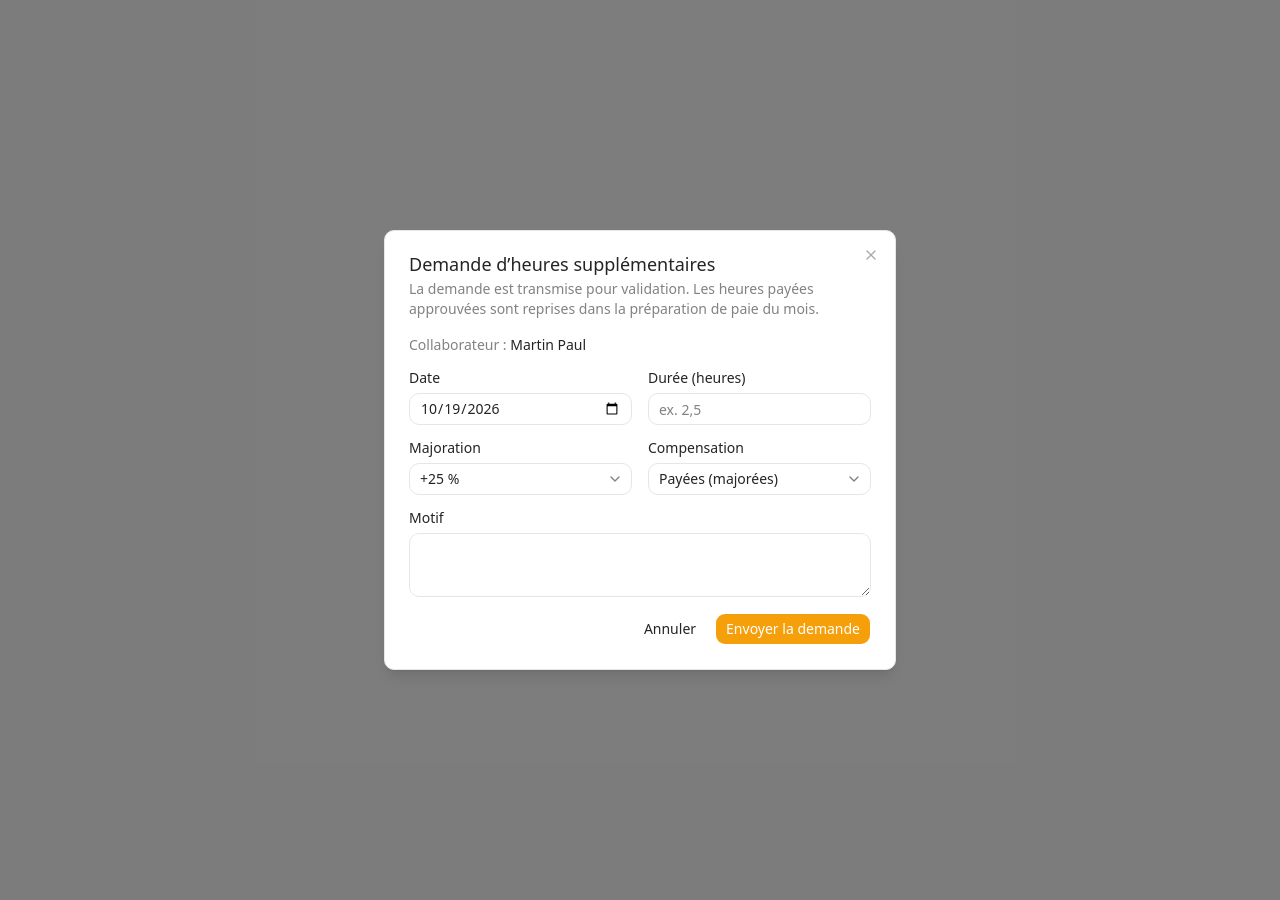
Test: DemandeHeuresSupDialog › affiche l’erreur renvoyée par le serveur
In the field labelled "Durée (heures)": [760, 409] box [648,393,871,425], type "1"
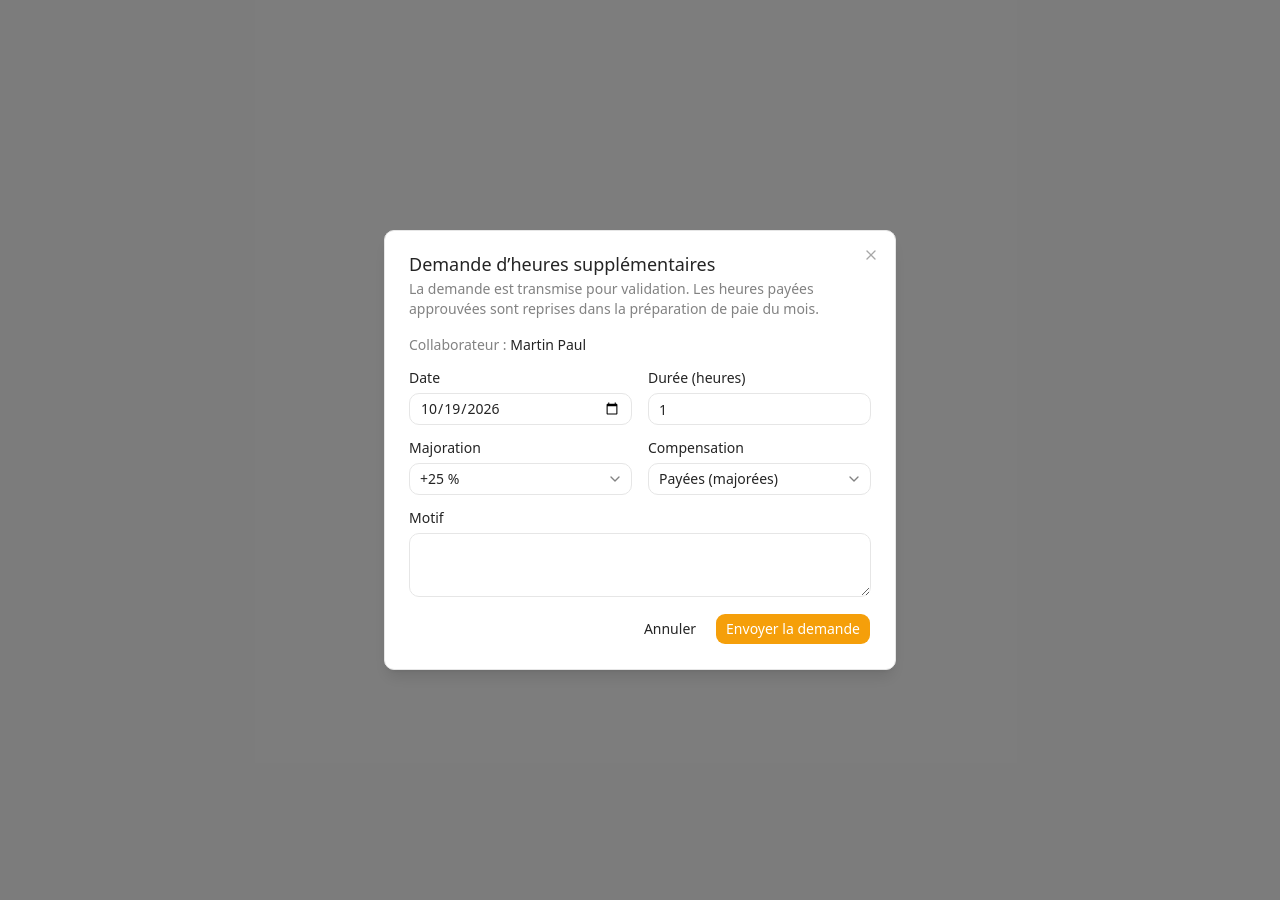
Click the button "Envoyer la demande": [793, 629] box [715,613,871,645]
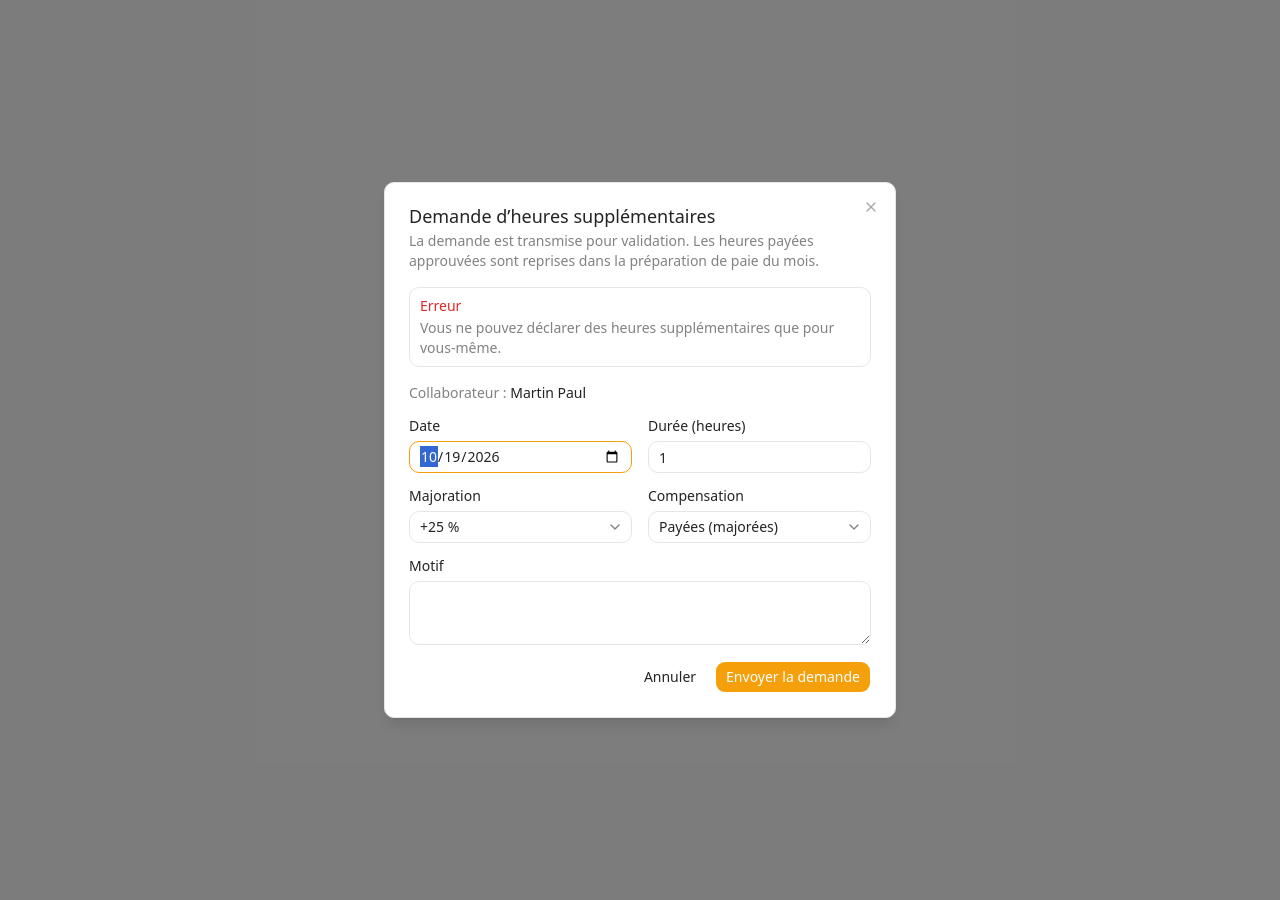
Now the text "que pour vous-même" is shown, box [420,318,834,357]
